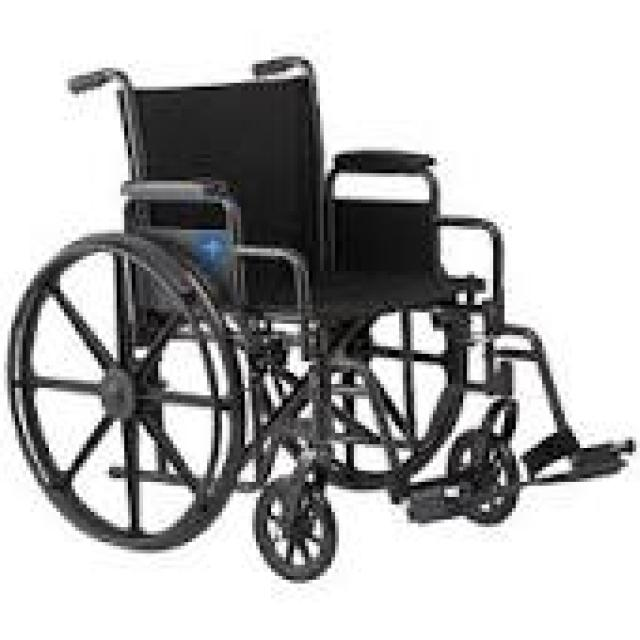wheelchairs: (15, 60, 629, 599)
